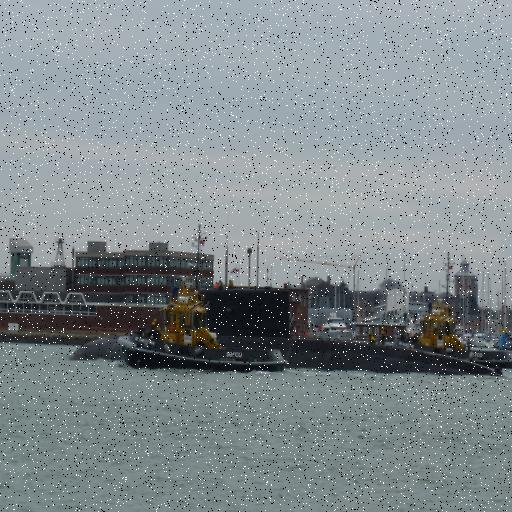submarine: (71, 286, 499, 359)
